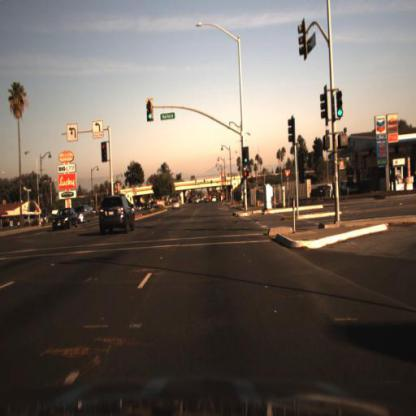car: (97, 192, 139, 237), (337, 174, 366, 202), (52, 206, 77, 233), (21, 210, 51, 230), (56, 210, 79, 231), (77, 204, 95, 226), (172, 198, 183, 213), (135, 201, 145, 214), (144, 202, 153, 214), (151, 200, 159, 212)
trafficLight-Green: (335, 88, 345, 118), (145, 96, 154, 122), (240, 147, 251, 167), (241, 146, 249, 167)
trafficLight-RedLeft: (101, 140, 107, 158)
